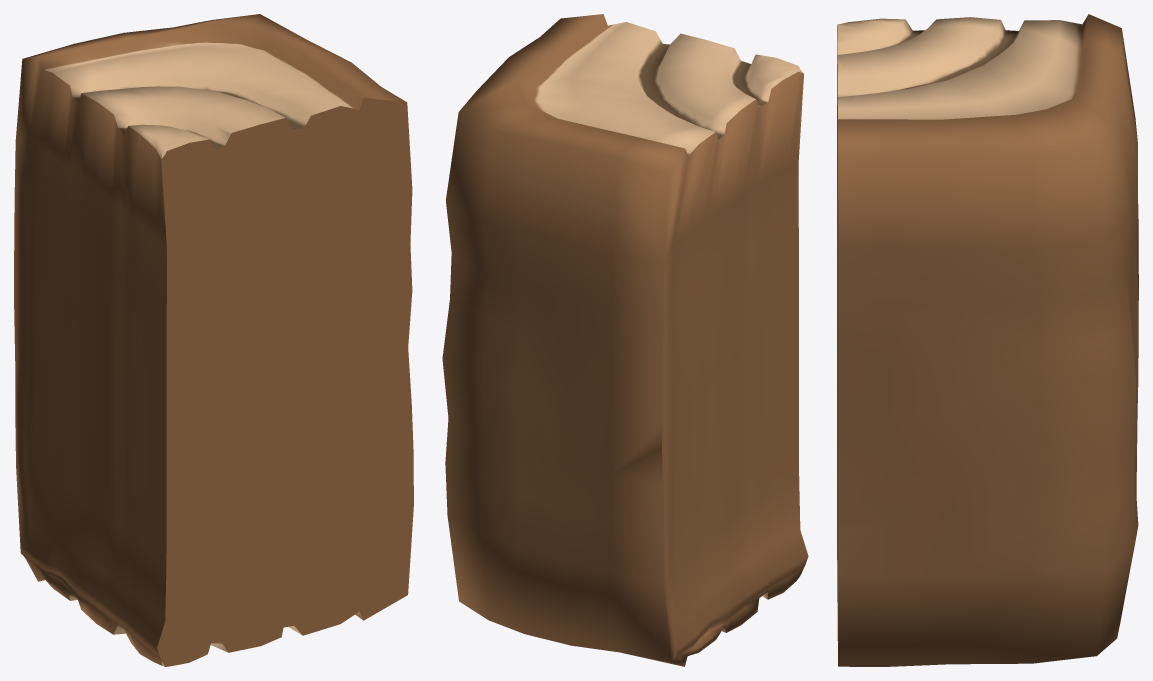
The model's file is CEYREK.fbx.
The picture shows the model from 3 angles, left to right: view 1: azimuth 30°, elevation 25°; view 2: azimuth 150°, elevation 25°; view 3: azimuth 270°, elevation 25°; orthographic projection. The views are drawn at different scales.
Visible parts, largest first — view 1: HALF_LOW; view 2: HALF_LOW; view 3: HALF_LOW.
Part boxes in pixels (x1,y1,x2,y2): HALF_LOW: (14,14,413,666); HALF_LOW: (442,14,808,666); HALF_LOW: (837,14,1138,666).
Bounding box in the file's own units: 0.5131 × 0.9979 × 0.4982.
Materials: 1 (1 with a texture image).
